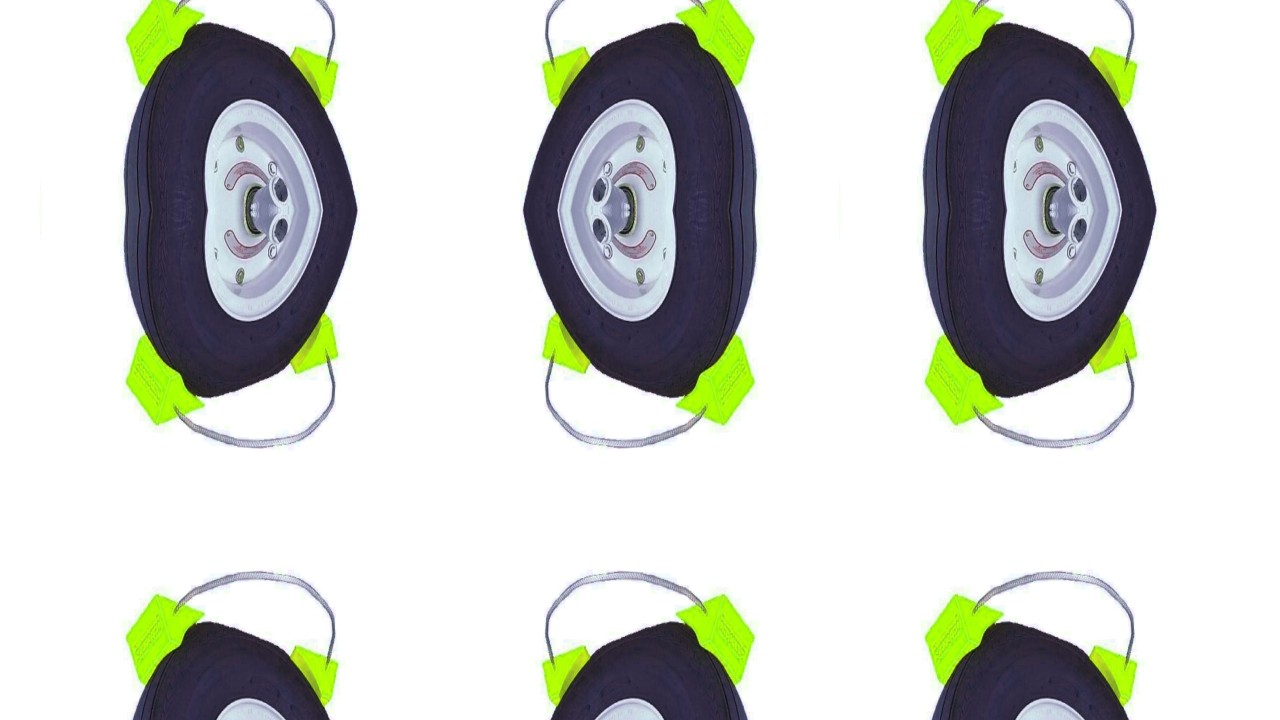chock: (122, 332, 209, 429), (671, 332, 758, 429), (922, 332, 1009, 429), (122, 591, 209, 688), (671, 591, 758, 688), (922, 591, 1009, 688), (122, 0, 209, 88), (671, 0, 758, 88), (922, 0, 1009, 88), (281, 43, 341, 117), (539, 43, 599, 117), (1081, 43, 1141, 117), (281, 303, 341, 377), (539, 303, 599, 377), (1081, 303, 1141, 377), (281, 643, 341, 717), (539, 643, 599, 717), (1081, 643, 1141, 717)
wheel: (113, 12, 359, 210), (521, 12, 767, 210), (913, 12, 1159, 210), (113, 210, 359, 408), (521, 210, 767, 408), (913, 210, 1159, 408), (113, 612, 359, 720), (521, 612, 767, 720), (913, 612, 1159, 720)
